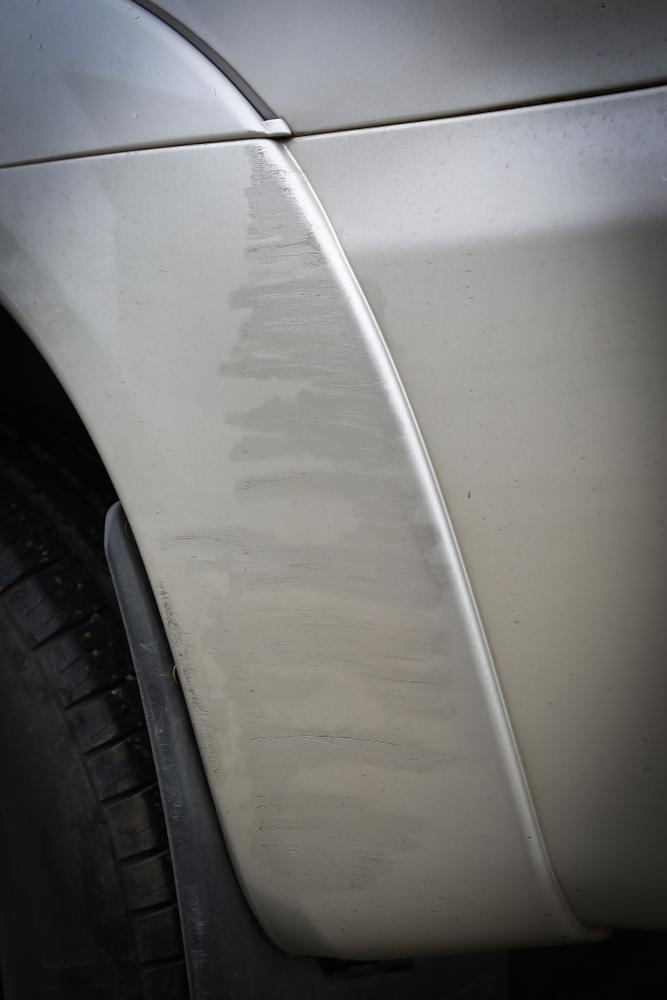scratch: (147, 141, 455, 892)
